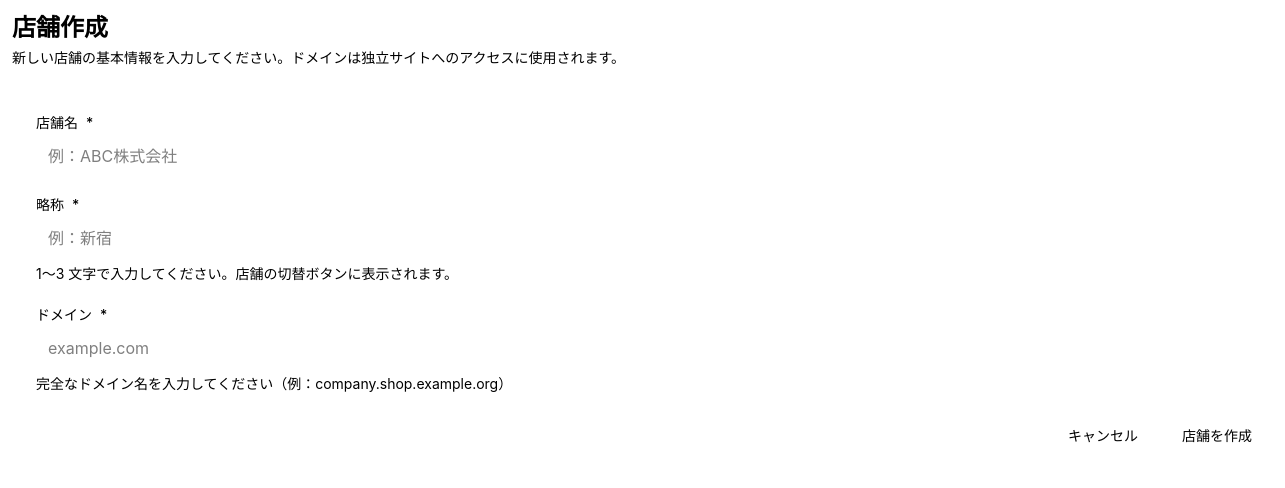
Test: 店舗管理 3 画面の挙動 › 新規作成は略称 ABCD が不正なら送信せずエラーを表示すること
The image size is (1285, 488).
Type "ガンマ店" into the field labelled "店舗名 *" at (652, 156), box [36,138,1268,174]
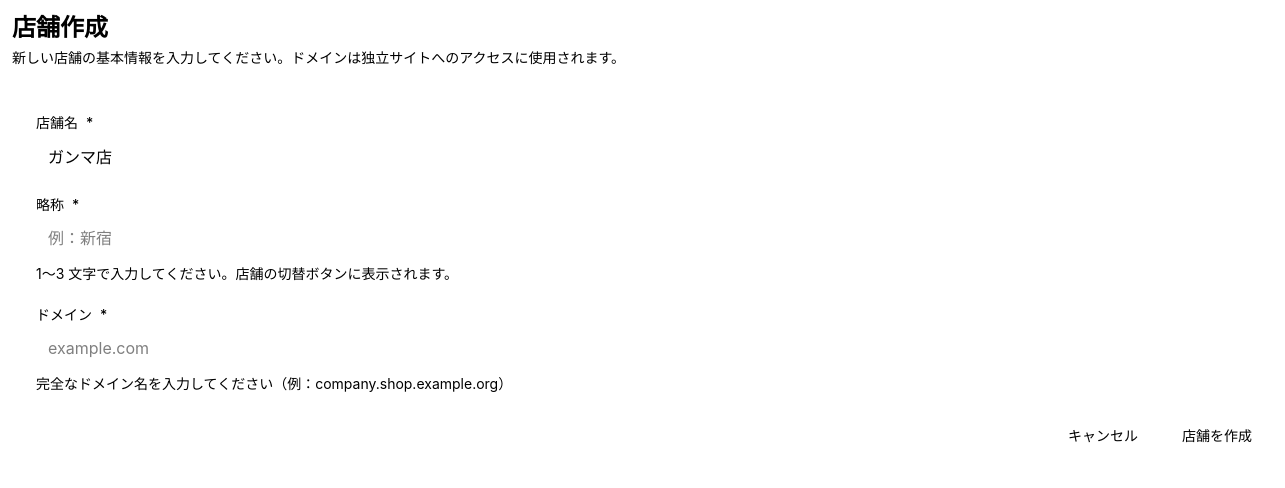
Type "ABCD" into the field labelled "略称 *" at (652, 238), box [36,220,1268,256]
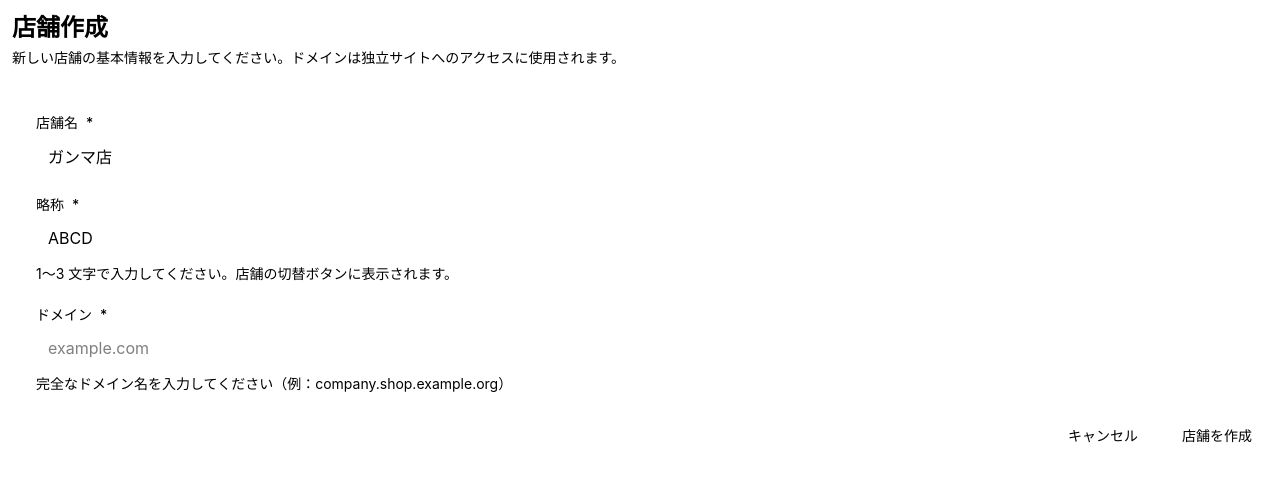
Type "gamma.example.com" into the field labelled "ドメイン *" at (652, 348), box [36,330,1268,366]
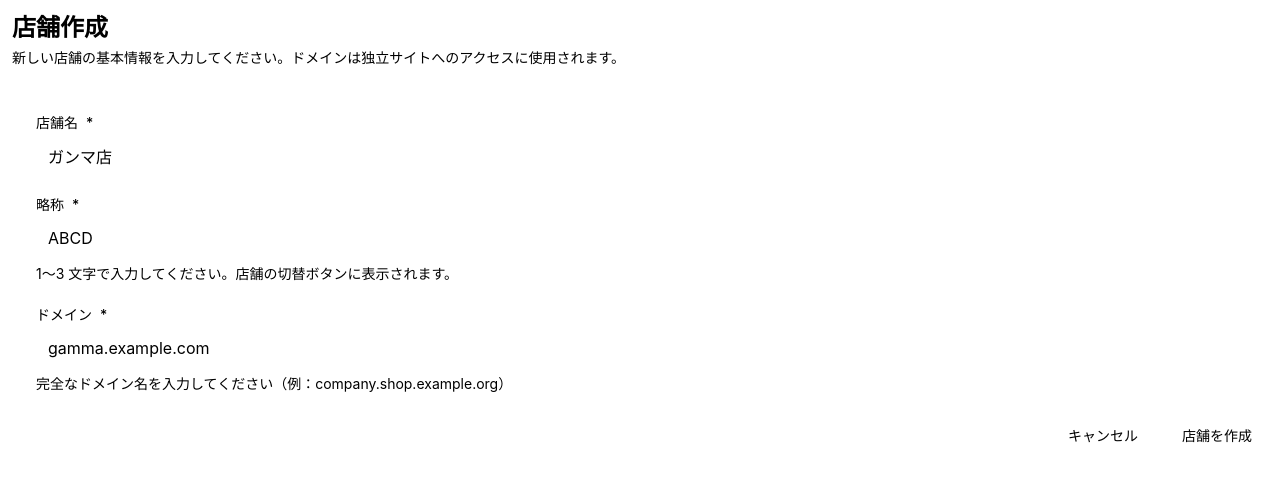
Click the button "店舗を作成" at (1217, 436), box [1166,418,1268,454]
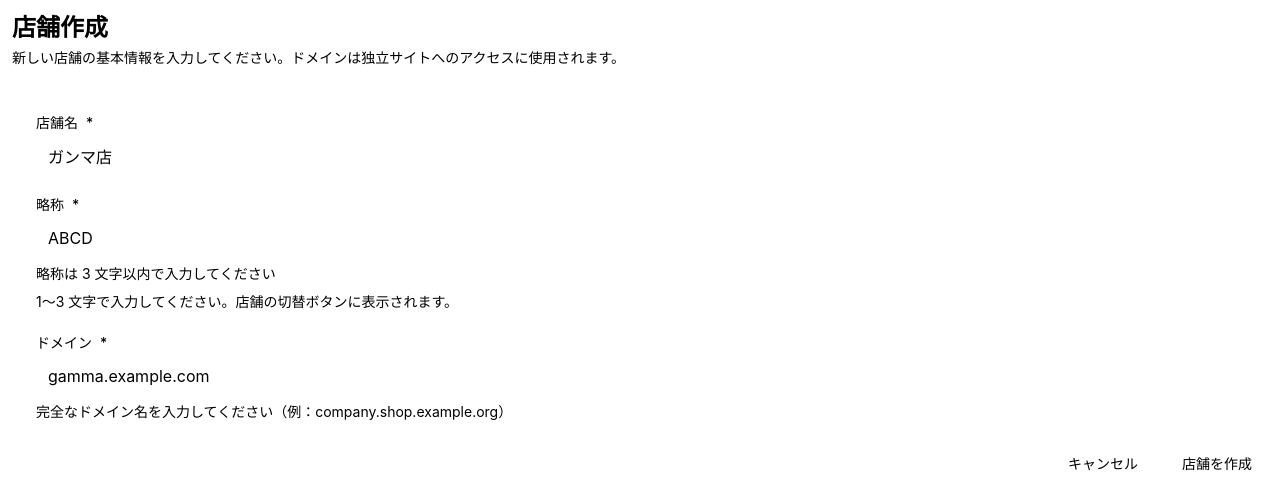
Check: the text "略称は 3 文字以内で入力してください" is shown, box [36,265,276,282]
